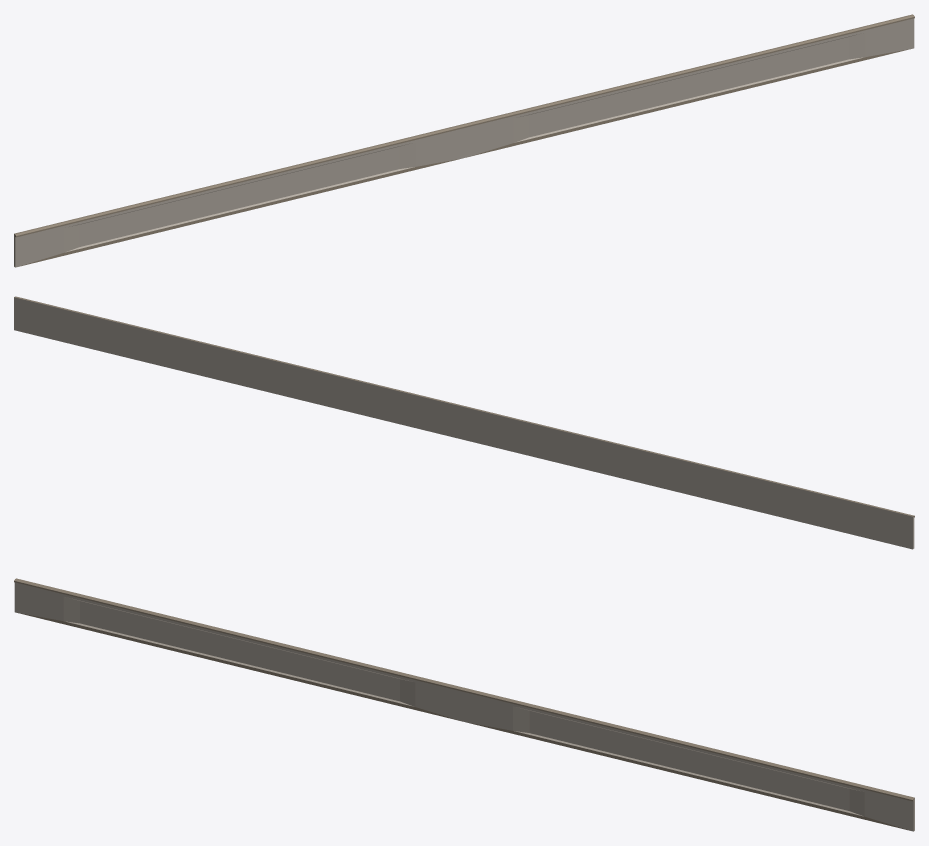
File: pale_paneling.glb
The picture shows the model from 3 angles, top to bottom: view 1: azimuth 30°, elevation 25°; view 2: azimuth 150°, elevation 25°; view 3: azimuth 330°, elevation 25°; orthographic projection.
Parts seen in each view (by area): view 1: pale_paneling; view 2: pale_paneling; view 3: pale_paneling.
Boxes of the visible parts, x1,y1,x2,y2 form: pale_paneling: (14, 14, 914, 267); pale_paneling: (14, 296, 914, 549); pale_paneling: (14, 578, 914, 831).
Bounding box in the file's own units: 12 × 0.42 × 0.05.
